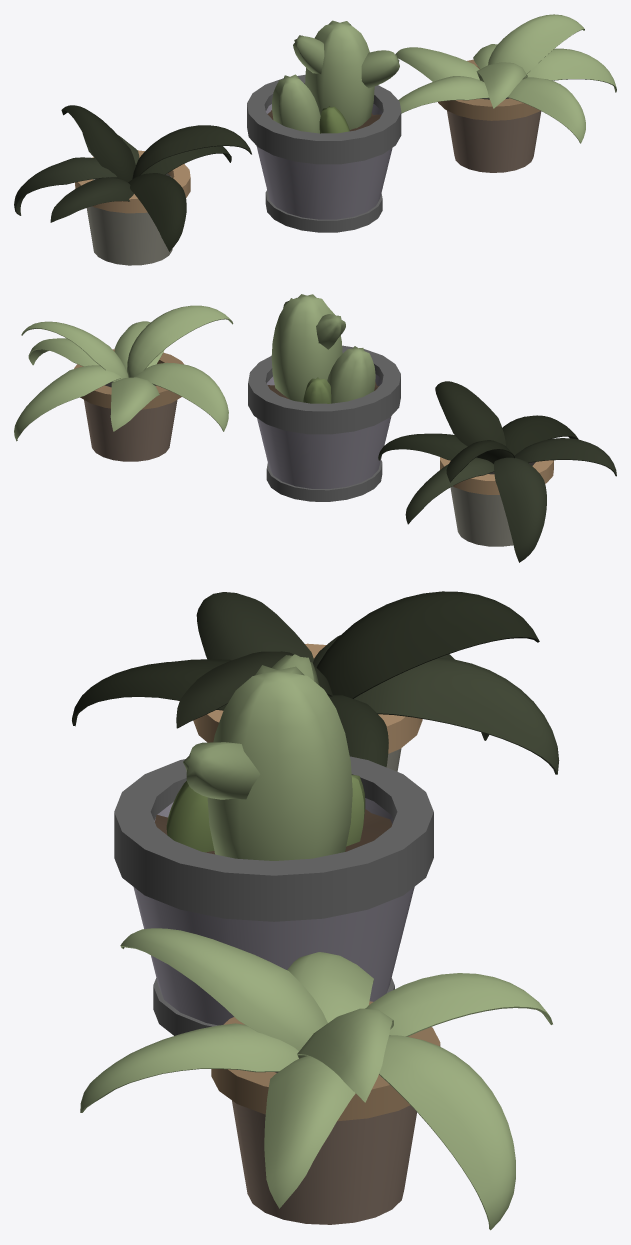
Rendered from colored plants deskroom.fbx.
3 renders of one model, top to bottom at view 1: azimuth 30°, elevation 25°; view 2: azimuth 150°, elevation 25°; view 3: azimuth 270°, elevation 25°, orthographic. The views are drawn at different scales.
Visible parts, largest first — view 1: polySurface2, polySurface3, polySurface5, polySurface15, polySurface25, polySurface17, polySurface21, polySurface16, polySurface27, polySurface29, polySurface6, polySurface12 (+12 smaller); view 2: polySurface2, polySurface3, polySurface5, polySurface15, polySurface28, polySurface19, polySurface29, polySurface25, polySurface11, polySurface18, polySurface6, polySurface30 (+13 smaller); view 3: polySurface3, polySurface5, polySurface2, polySurface15, polySurface27, polySurface18, polySurface19, polySurface22, polySurface12, polySurface16, polySurface20, polySurface30 (+12 smaller).
Part boxes in pixels (box(x1,y1,x2,y2)): polySurface2: box(256, 104, 392, 219); polySurface3: box(247, 74, 401, 164); polySurface5: box(305, 20, 374, 129); polySurface15: box(447, 110, 541, 172); polySurface25: box(86, 173, 172, 265); polySurface17: box(488, 14, 584, 73); polySurface21: box(128, 173, 186, 251); polySurface16: box(489, 77, 585, 143); polySurface27: box(61, 105, 135, 182); polySurface29: box(132, 125, 251, 179); polySurface6: box(272, 74, 320, 133); polySurface12: box(527, 48, 616, 92); polySurface2: box(257, 374, 391, 488); polySurface3: box(248, 345, 400, 434); polySurface5: box(271, 294, 342, 402); polySurface15: box(84, 399, 177, 461); polySurface28: box(494, 457, 546, 562); polySurface19: box(127, 305, 233, 377); polySurface29: box(435, 381, 505, 446); polySurface25: box(450, 462, 535, 546); polySurface11: box(133, 362, 228, 431); polySurface18: box(14, 365, 121, 441); polySurface6: box(327, 346, 375, 403); polySurface30: box(514, 438, 616, 476); polySurface3: box(114, 756, 433, 921); polySurface5: box(207, 665, 352, 860); polySurface2: box(133, 798, 414, 1025); polySurface15: box(232, 1100, 416, 1224); polySurface27: box(316, 591, 539, 698); polySurface18: box(379, 1035, 515, 1230); polySurface19: box(120, 928, 327, 1050); polySurface22: box(354, 657, 559, 774); polySurface12: box(264, 1056, 355, 1208); polySurface16: box(80, 1023, 298, 1112); polySurface20: box(365, 973, 552, 1036); polySurface30: box(196, 592, 313, 662).
Size of the model in its own units: 0.3757 by 0.1125 by 0.1385.
